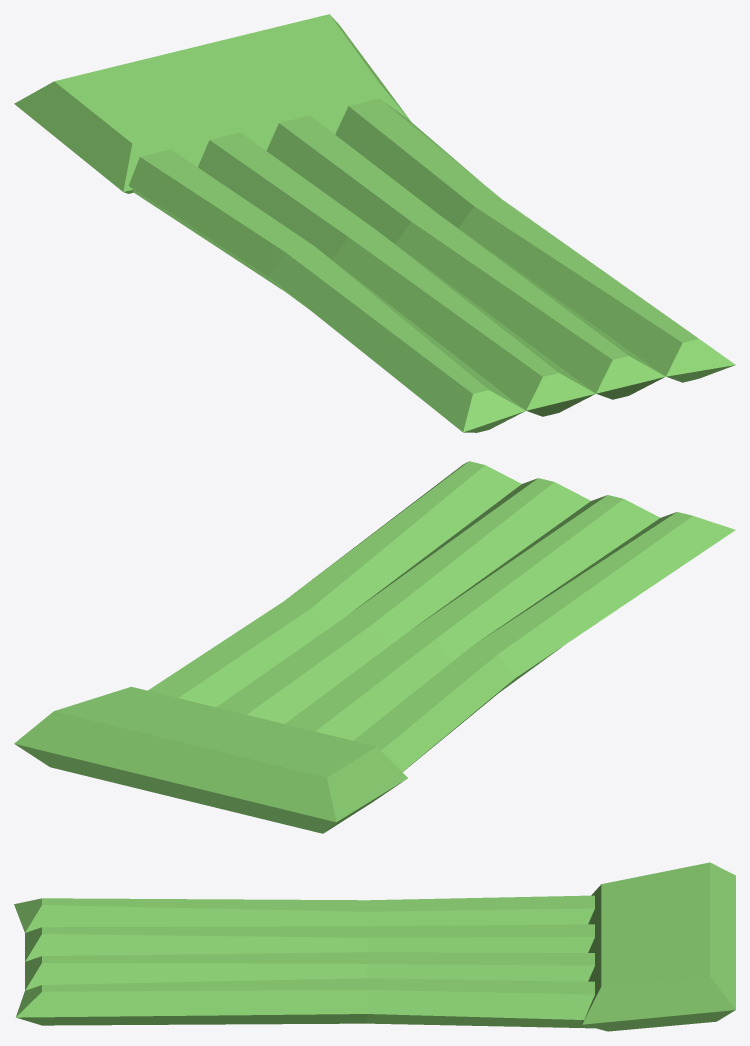
File: SwimmingMattress_A.fbx
The picture shows the model from 3 angles, top to bottom: view 1: azimuth 30°, elevation 25°; view 2: azimuth 150°, elevation 25°; view 3: azimuth 270°, elevation 25°; orthographic projection. The views are drawn at different scales.
Parts seen in each view (by area): view 1: SwimmingMattress_A; view 2: SwimmingMattress_A; view 3: SwimmingMattress_A.
Part boxes in pixels (x1,y1,x2,y2): SwimmingMattress_A: (14, 14, 735, 432); SwimmingMattress_A: (14, 461, 735, 833); SwimmingMattress_A: (14, 862, 735, 1031).
Bounding box in the file's own units: 93.04 × 19.71 × 211.
